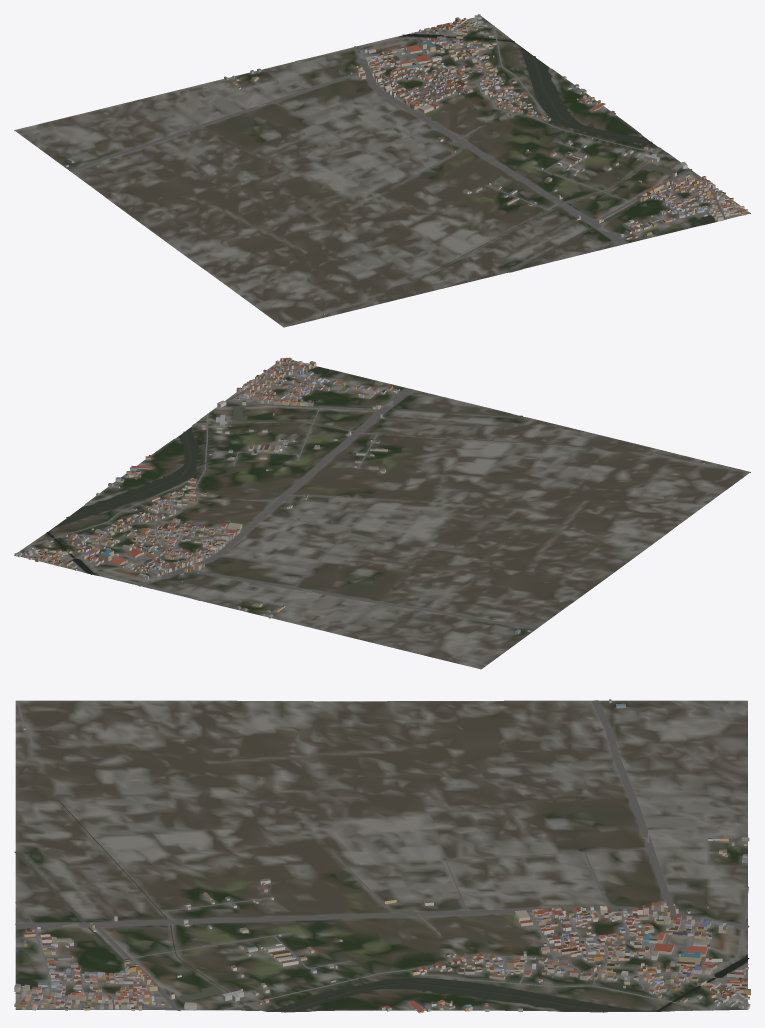
3 views of the same model, one above another, from view 1: azimuth 30°, elevation 25°; view 2: azimuth 150°, elevation 25°; view 3: azimuth 270°, elevation 25° (orthographic). The views are drawn at different scales.
Visible parts, largest first — view 1: ground, buildings, roads, water; view 2: ground, buildings, roads, water; view 3: ground, buildings, roads, water.
Part boxes in pixels (x1,y1,x2,y2): ground: (14, 16, 750, 327); buildings: (65, 14, 747, 314); roads: (69, 18, 745, 326); water: (398, 33, 714, 279); ground: (14, 358, 750, 669); buildings: (14, 357, 704, 634); roads: (24, 360, 749, 628); water: (44, 367, 583, 575); ground: (15, 700, 748, 1012); buildings: (14, 699, 750, 1013); roads: (15, 700, 749, 1010); water: (14, 800, 749, 1012).
Size of the model in its own units: 1413 by 26.41 by 1410.
